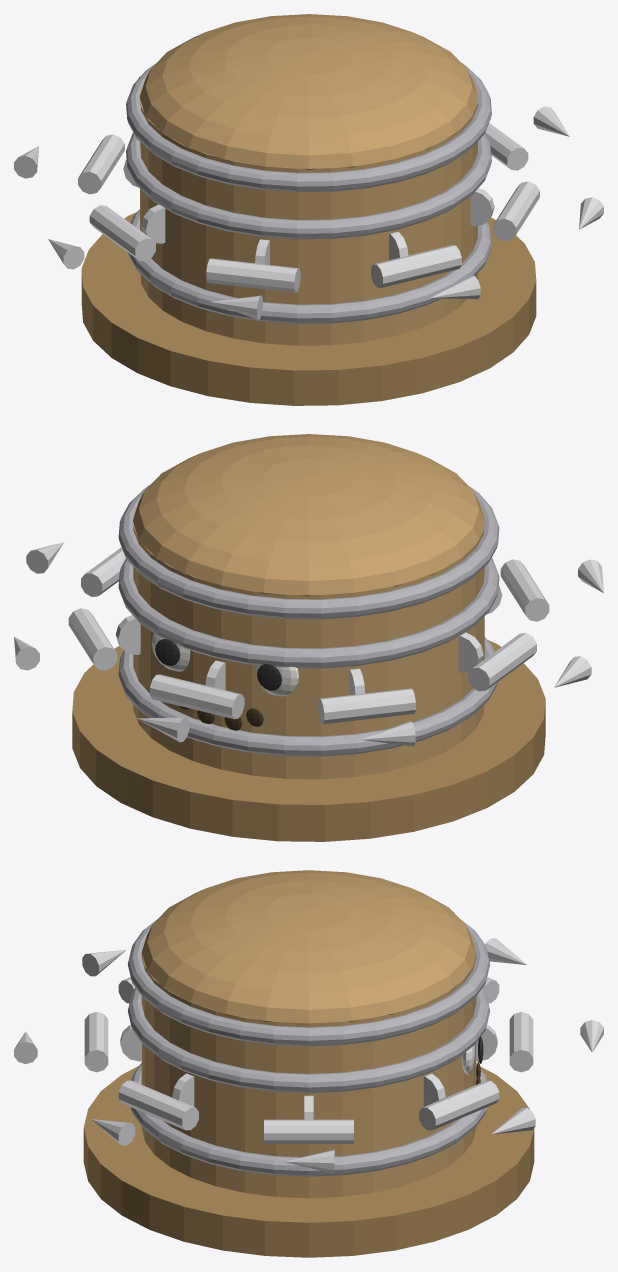
The model's file is tack000.fbx.
The picture shows the model from 3 angles, top to bottom: view 1: azimuth 30°, elevation 25°; view 2: azimuth 150°, elevation 25°; view 3: azimuth 270°, elevation 25°; orthographic projection. The views are drawn at different scales.
Parts seen in each view (by area): view 1: TopCap, Base, Barrel, Band_Top, Band_Mid, Band_Low, TackShaft_5, TackShaft_6, TackShaft_4, TackShaft_3, TackShaft_7, TackShaft_0 (+8 smaller); view 2: TopCap, Base, Barrel, Band_Top, Band_Mid, Band_Low, TackShaft_3, TackShaft_2, TackShaft_4, TackShaft_1, TackShaft_5, TackShaft_0 (+9 smaller); view 3: TopCap, Base, Barrel, Band_Top, Band_Mid, Band_Low, TackShaft_0, TackShaft_1, TackShaft_7, TackShaft_2, TackShaft_6, TackTip_7 (+9 smaller).
Part boxes in pixels (x1,y1,x2,y2): TopCap: [139, 14, 478, 169]; Base: [81, 212, 536, 405]; Barrel: [140, 81, 477, 345]; Band_Top: [126, 62, 491, 192]; Band_Mid: [126, 132, 491, 239]; Band_Low: [127, 209, 491, 323]; TackShaft_5: [206, 258, 300, 292]; TackShaft_6: [371, 245, 461, 287]; TackShaft_4: [89, 205, 155, 261]; TackShaft_3: [78, 134, 124, 194]; TackShaft_7: [493, 181, 539, 241]; TackShaft_0: [485, 123, 528, 170]; TopCap: [133, 434, 484, 596]; Base: [72, 640, 545, 841]; Barrel: [133, 504, 484, 779]; Band_Top: [118, 485, 499, 619]; Band_Mid: [118, 557, 499, 668]; Band_Low: [118, 637, 497, 756]; TackShaft_3: [318, 688, 415, 724]; TackShaft_2: [150, 674, 244, 719]; TackShaft_4: [468, 633, 536, 691]; TackShaft_1: [68, 608, 117, 670]; TackShaft_5: [500, 559, 549, 621]; TackShaft_0: [81, 547, 125, 596]; TopCap: [141, 870, 476, 1023]; Base: [83, 1066, 534, 1257]; Barrel: [141, 937, 476, 1198]; Band_Top: [127, 919, 490, 1046]; Band_Mid: [128, 988, 489, 1092]; Band_Low: [130, 1063, 487, 1176]; TackShaft_0: [264, 1119, 353, 1143]; TackShaft_1: [419, 1080, 499, 1130]; TackShaft_7: [118, 1080, 198, 1130]; TackShaft_2: [509, 1011, 533, 1072]; TackShaft_6: [84, 1011, 108, 1072]; TackTip_7: [91, 1119, 135, 1145].
Size of the model in its own units: 275 by 130 by 275.
